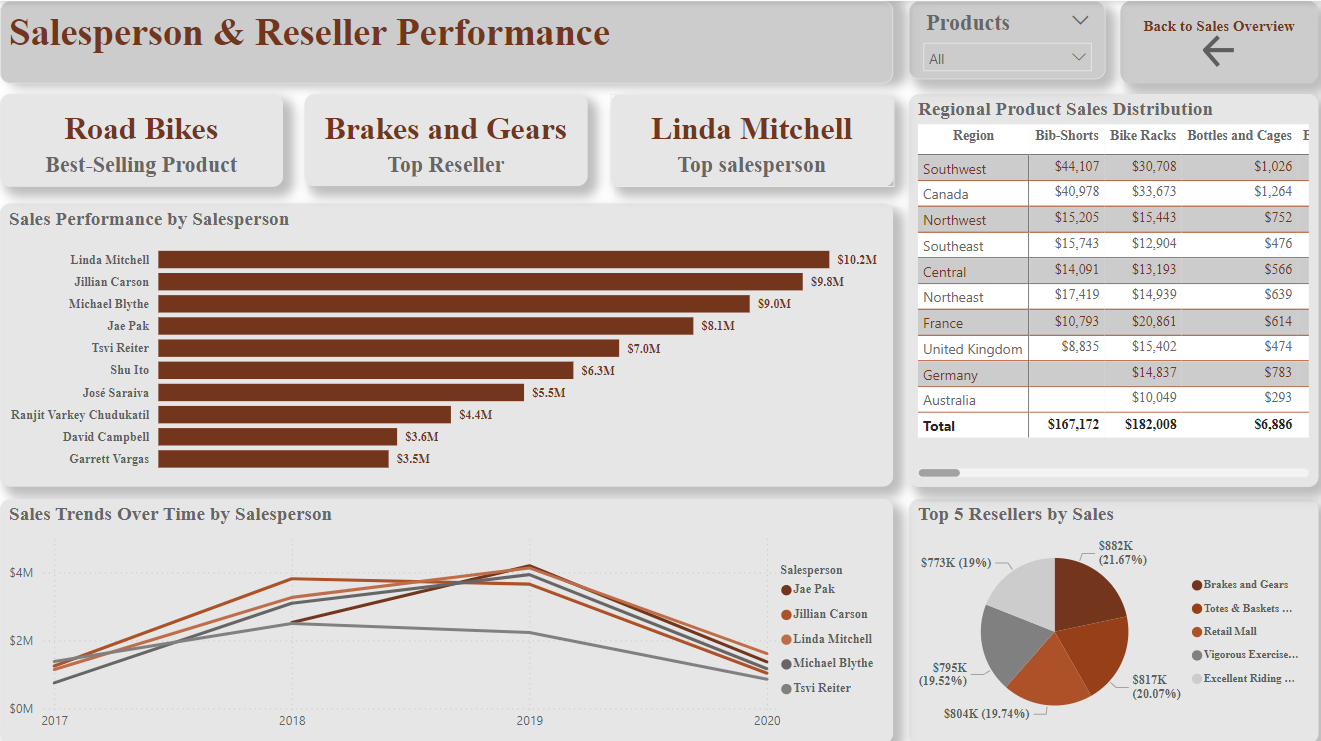

What the dashboard file says about the page in this screenshot:
{"tool":"powerbi","page":{"name":"Salesperson & Reseller Performance","canvas":[1280,720],"ordinal":1},"visuals":[{"type":"actionButton","box":[1087.3,0,192.1,80.1],"z":0},{"type":"barChart","title":"Sales Performance by Salesperson","fields":{"Category":["Salesperson.Salesperson"],"Y":["Sum(Sales.Sales)"]},"box":[0,196.7,866.5,274.6],"z":1000},{"type":"pieChart","title":"Top 5 Resellers by Sales","fields":{"Category":["Reseller.Reseller"],"Y":["Sum(Sales.Sales)"],"Series":["Reseller.Business Type"]},"box":[882.1,482.9,397.2,237.6],"z":2000},{"type":"pivotTable","title":"Regional Product Sales Distribution","fields":{"Columns":["Product.Subcategory"],"Rows":["Region.Region"],"Values":["Sum(Sales.Sales)"]},"box":[882.1,89.6,397.2,381.7],"z":4000},{"type":"slicer","fields":{"Values":["Product.Subcategory"]},"box":[882.5,0,190.8,76],"z":5000},{"type":"textbox","box":[0,0,866.8,79.7],"z":6000},{"type":"card","fields":{"Values":["Product.Top Product Name"]},"box":[0,90,274.5,90],"z":7000},{"type":"card","fields":{"Values":["Reseller.Top Reseller Name"]},"box":[296,89.6,274.6,89.6],"z":8000},{"type":"card","fields":{"Values":["Salesperson.Top salespersonName"]},"box":[592.4,90,274.5,90],"z":9000},{"type":"lineChart","title":"Sales Trends Over Time by Salesperson","fields":{"Y":["Sum(Sales.Sales)"],"Category":["Sales.OrderDate.Variation.Date Hierarchy.Year","Sales.OrderDate.Variation.Date Hierarchy.Quarter","Sales.OrderDate.Variation.Date Hierarchy.Month","Sales.OrderDate.Variation.Date Hierarchy.Day"],"Series":["Salesperson.Salesperson"]},"box":[0,482.9,866.5,237.6],"z":10000}]}

Visuals, with their boxes in screenshot pixels (x1, y1, x2, y2), scaled from the page's 1280x720 canvas onto the 1321x741 screenshot:
actionButton: BBox(1122, 0, 1320, 82)
"Sales Performance by Salesperson" barChart: BBox(0, 202, 894, 485)
"Top 5 Resellers by Sales" pieChart: BBox(910, 497, 1320, 740)
"Regional Product Sales Distribution" pivotTable: BBox(910, 92, 1320, 485)
slicer - Product.Subcategory: BBox(911, 0, 1108, 78)
textbox: BBox(0, 0, 895, 82)
card - Product.Top Product Name: BBox(0, 93, 283, 185)
card - Reseller.Top Reseller Name: BBox(305, 92, 589, 184)
card - Salesperson.Top salespersonName: BBox(611, 93, 895, 185)
"Sales Trends Over Time by Salesperson" lineChart: BBox(0, 497, 894, 740)
